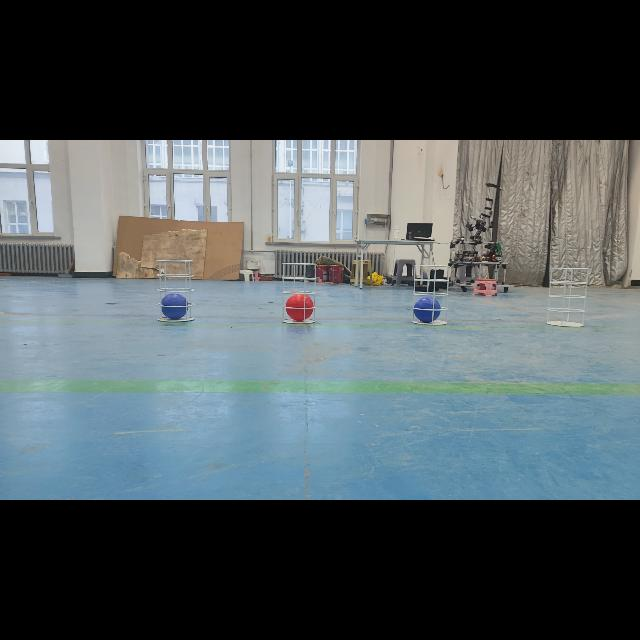B: (414, 297, 441, 323), (162, 293, 188, 319)
R: (286, 293, 314, 321)
S: (152, 256, 198, 326), (544, 262, 590, 330), (408, 261, 452, 329), (279, 259, 321, 327)
